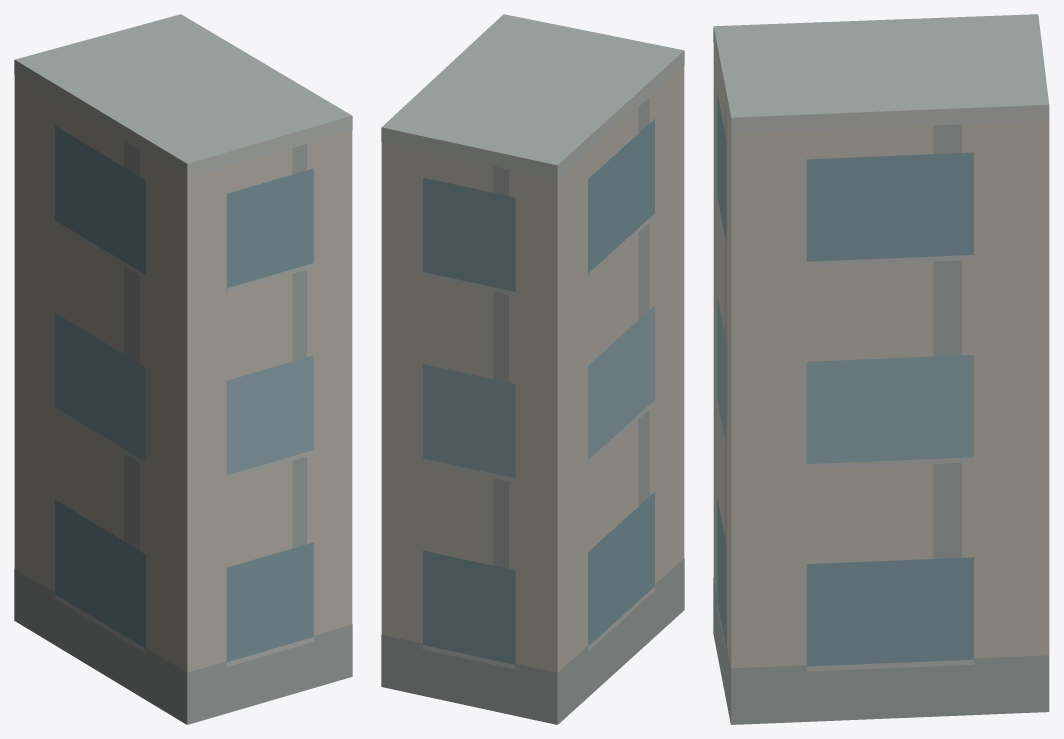
The model's file is survey-upis-32634299.glb.
3 views of the same model, side by side, from view 1: azimuth 30°, elevation 25°; view 2: azimuth 150°, elevation 25°; view 3: azimuth 270°, elevation 25° (orthographic). The views are drawn at different scales.
Visible parts, largest first — view 1: survey-upis-32634299.tmp; view 2: survey-upis-32634299.tmp; view 3: survey-upis-32634299.tmp.
Part boxes in pixels (<box>): survey-upis-32634299.tmp: <box>14,14,352,724</box>; survey-upis-32634299.tmp: <box>381,14,684,724</box>; survey-upis-32634299.tmp: <box>713,14,1049,724</box>.
Bounding box in the file's own units: 3.36 × 9.15 × 4.59.
